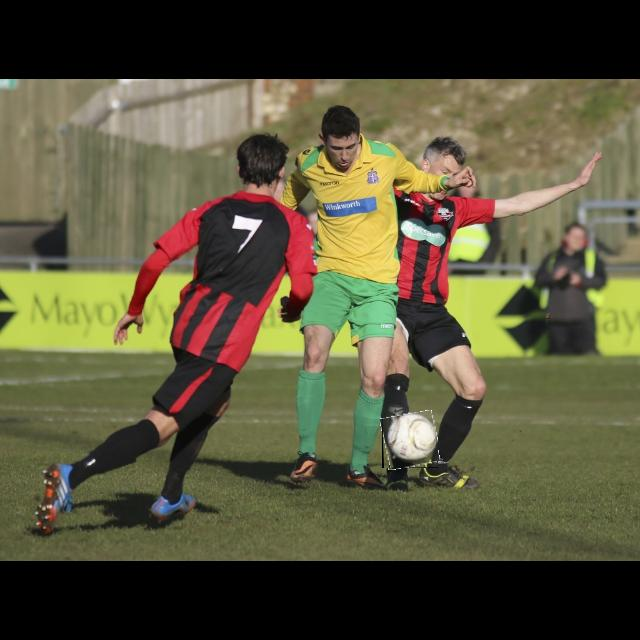Football: (382, 412, 438, 468)
